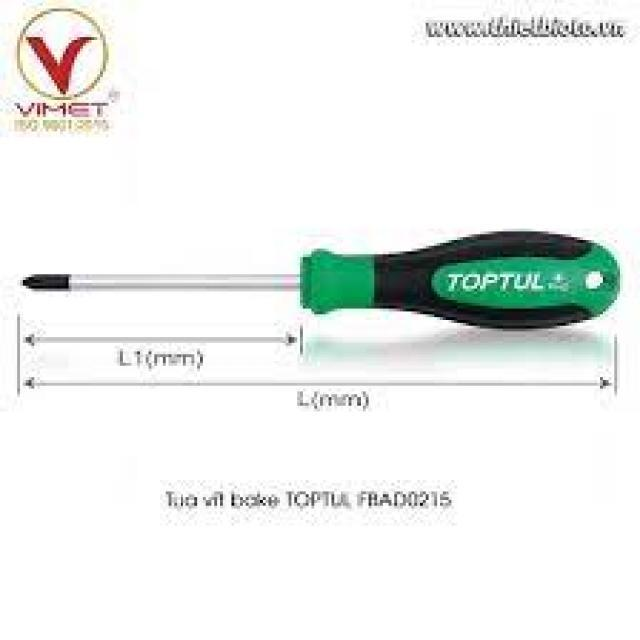screwdriver: (6, 226, 628, 334)
